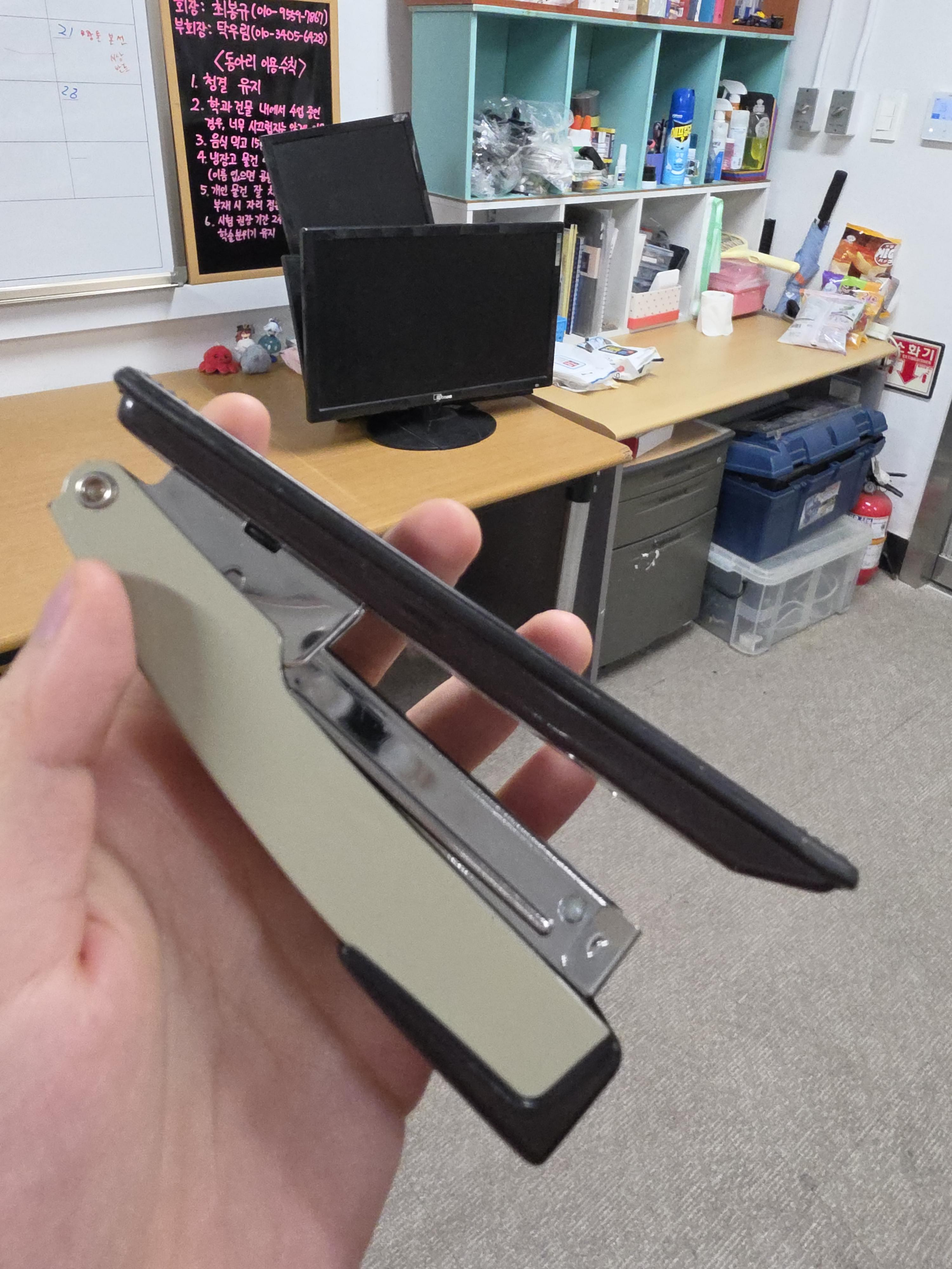stapler: (48, 364, 861, 1165)
tissue: (628, 267, 682, 331), (697, 289, 734, 337)
